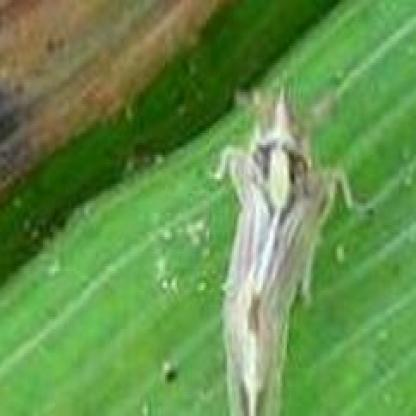brown-planthopper: (223, 86, 325, 416)
